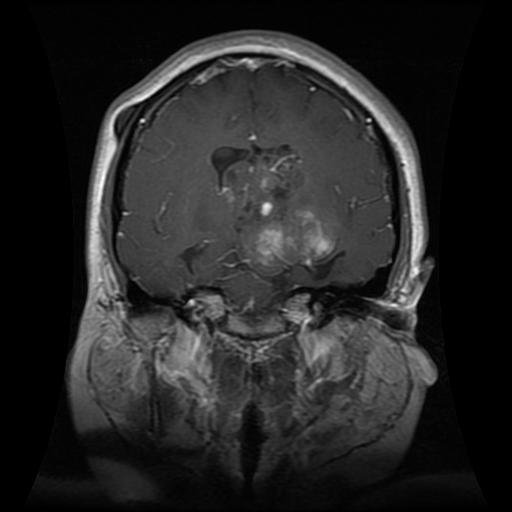Gliomia_tumour: (208, 141, 345, 274)
